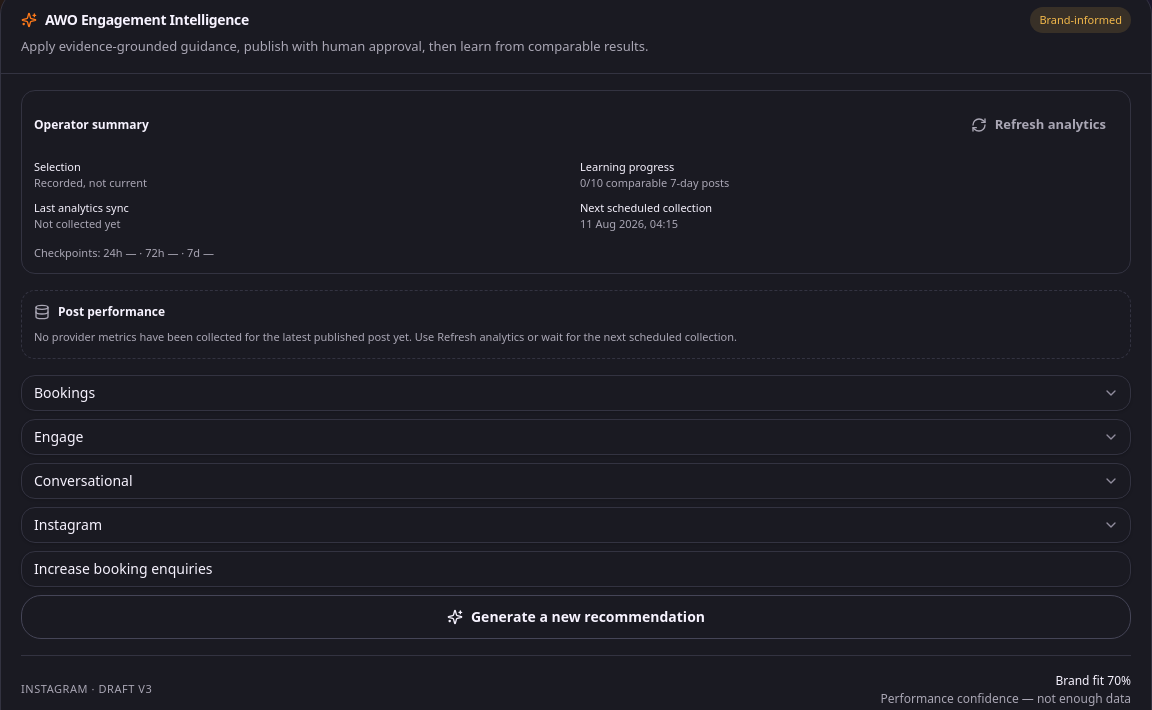
EngagementIntelligencePanel › marks the recommendation outdated when its non-empty objective is cleared
The image size is (1152, 710).
Clear the field named "Engagement objective" at (576, 568), box [21,550,1131,586]
(page scrolled)
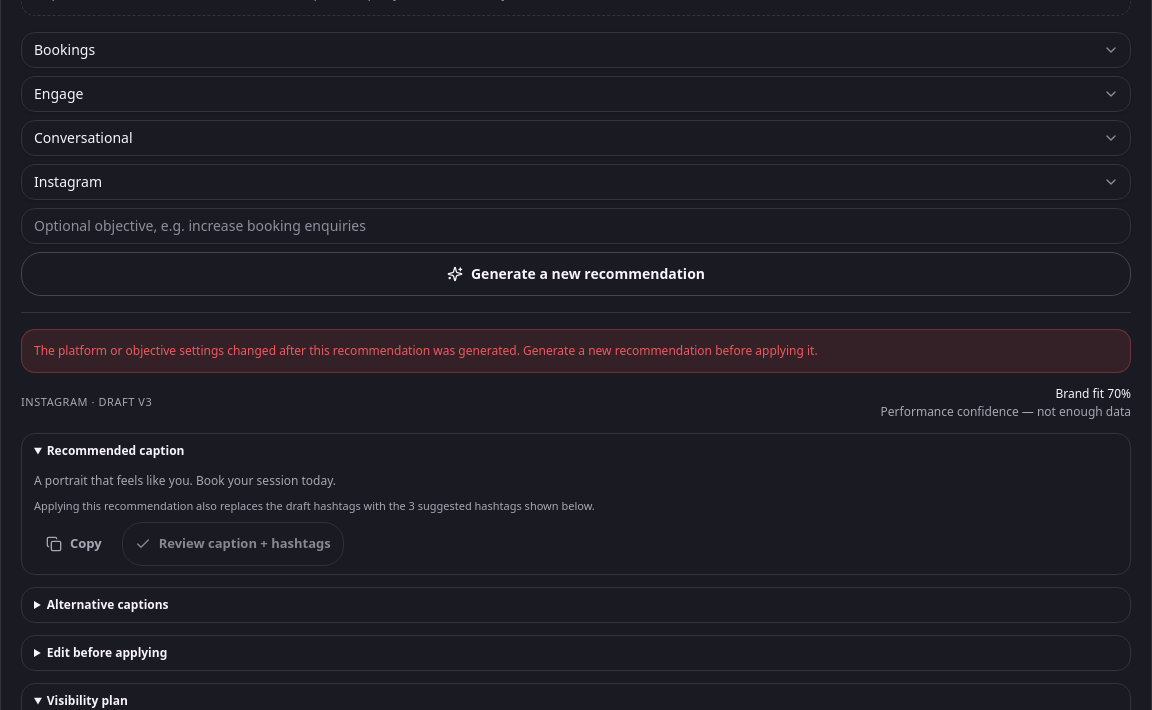
Expected: the text "settings changed after this recommendation was generated" is shown, [34,342,818,358]
